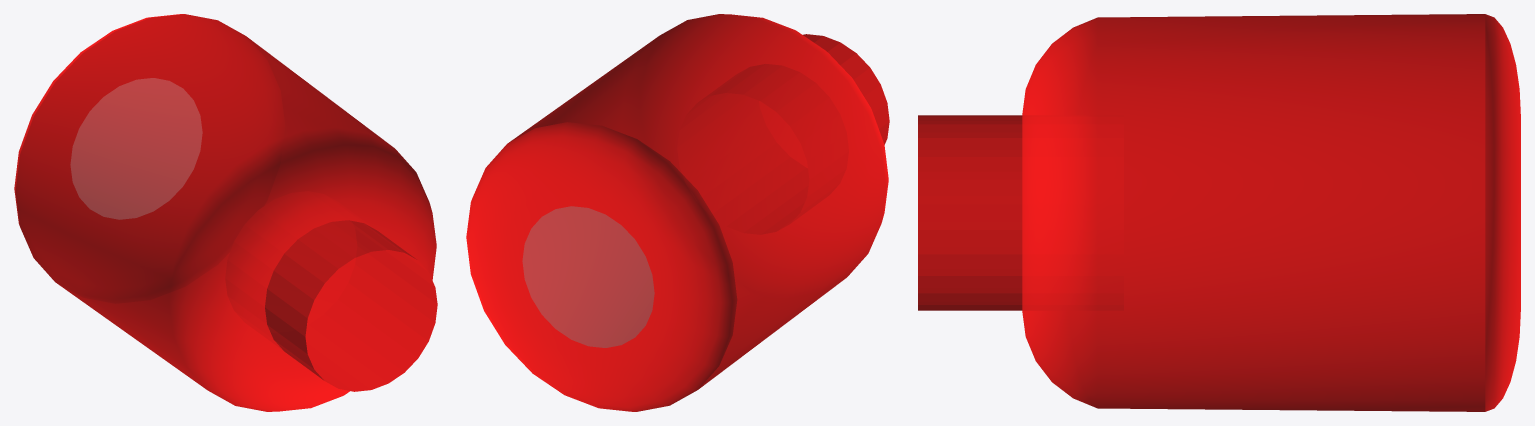
File: model_scale.obj
The picture shows the model from 3 angles, left to right: view 1: azimuth 30°, elevation 25°; view 2: azimuth 150°, elevation 25°; view 3: azimuth 270°, elevation 25°; orthographic projection. The views are drawn at different scales.
Parts seen in each view (by area): view 1: mesh1_mesh1-geometry; view 2: mesh1_mesh1-geometry; view 3: mesh1_mesh1-geometry.
Part boxes in pixels (bbox=[...]): mesh1_mesh1-geometry: bbox=[14, 14, 437, 411]; mesh1_mesh1-geometry: bbox=[466, 14, 889, 411]; mesh1_mesh1-geometry: bbox=[918, 14, 1520, 411].
Size of the model in its own units: 0.096 by 0.096 by 0.1448.
